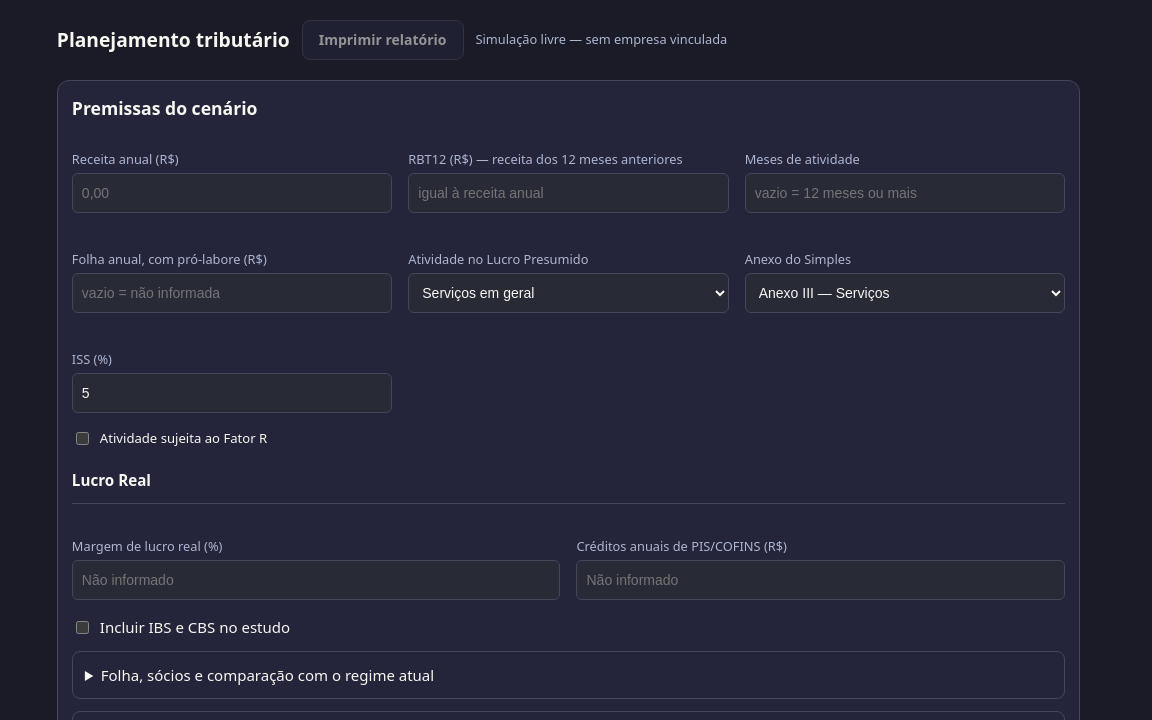
Test case: ⚠⚠ o campo de dinheiro na TELA — o ×100 não é mais escrevível › ⚠⚠ `1234.56` vira R$ 1.234,56 no campo — ele virava 123.456 no motor
This screenshot has width=1152, height=720.
Type "1234.56" into the field labelled "Receita anual (R$)" at (232,193), box x1=72 y1=173 x2=392 y2=213
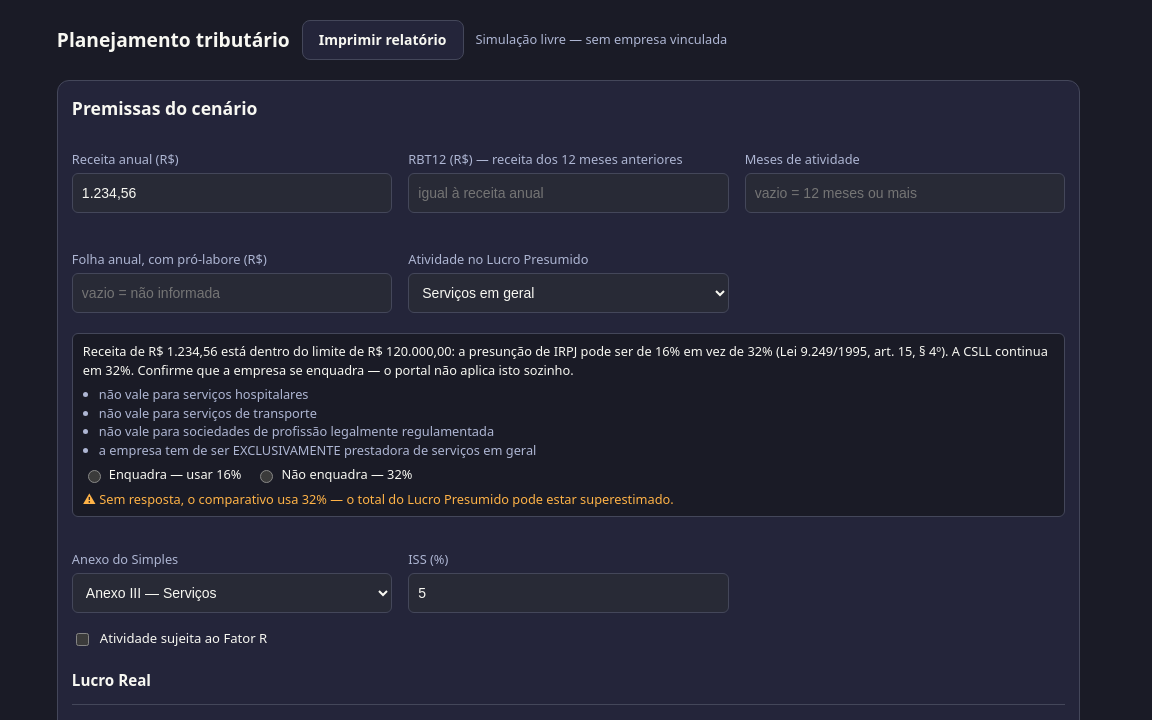
Result: the field labelled "Receita anual (R$)" holds "1.234,56" at x1=72 y1=173 x2=392 y2=213
